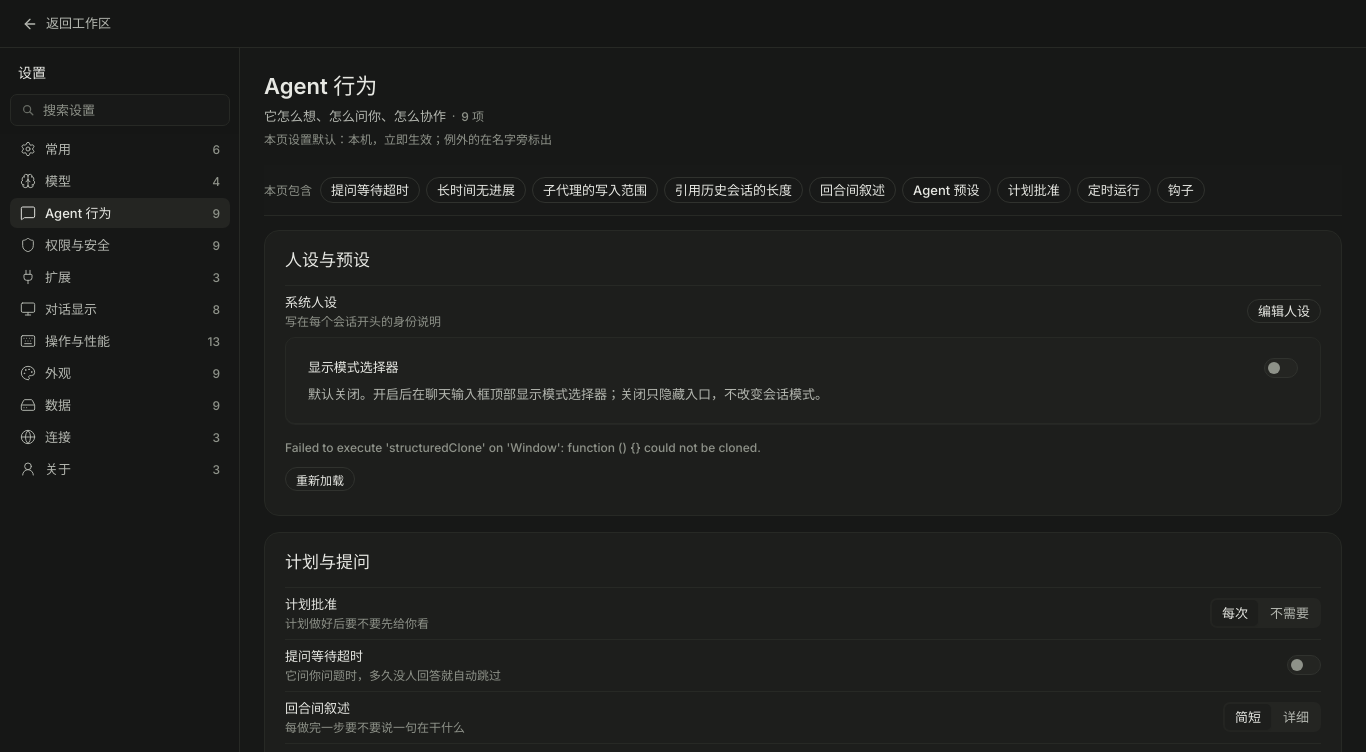
Test: finding a setting › finds collapsed todo progress and opens its immediate machine-local control
Later steps or results of the test are not shown.
Type "todo" into the field labelled "搜索设置" at (120, 110), box [10,94,230,126]
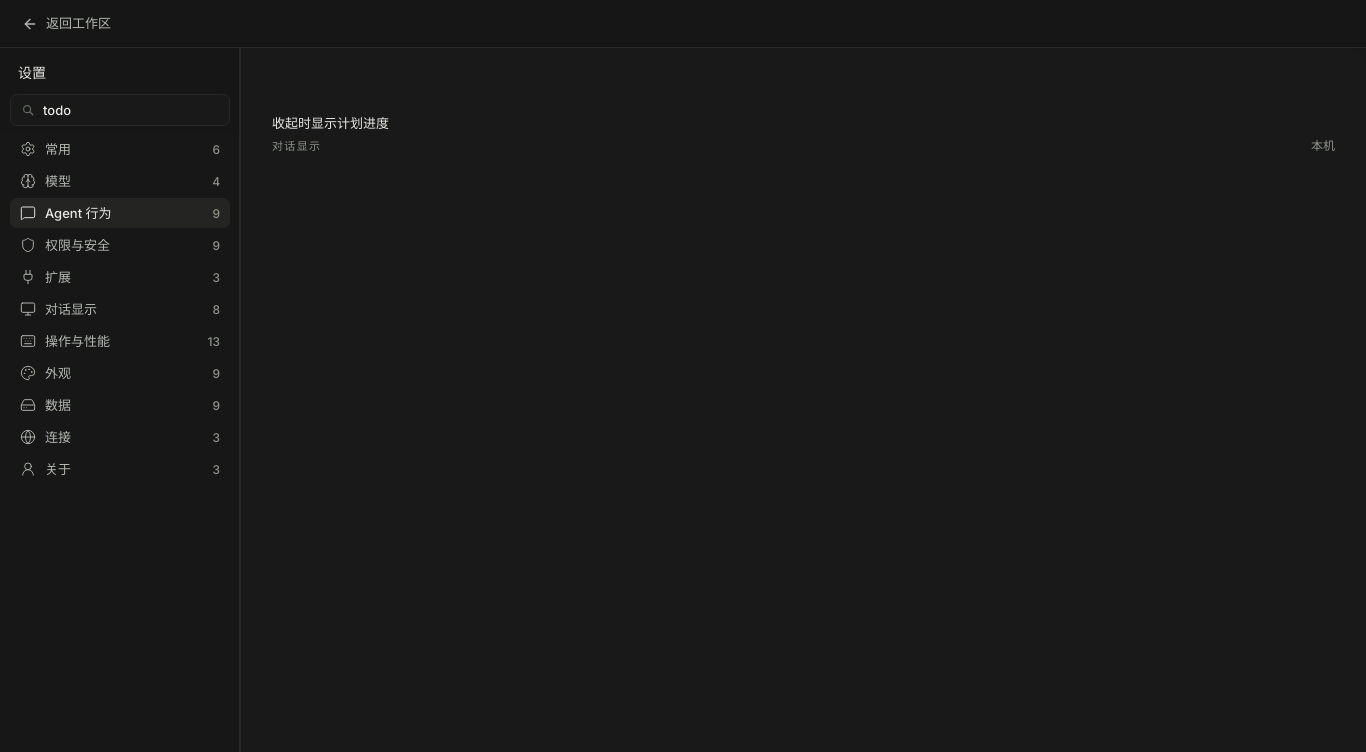
Click the option "对话显示 收起时显示计划进度 本机" at (297, 146), box [263,106,1344,160]
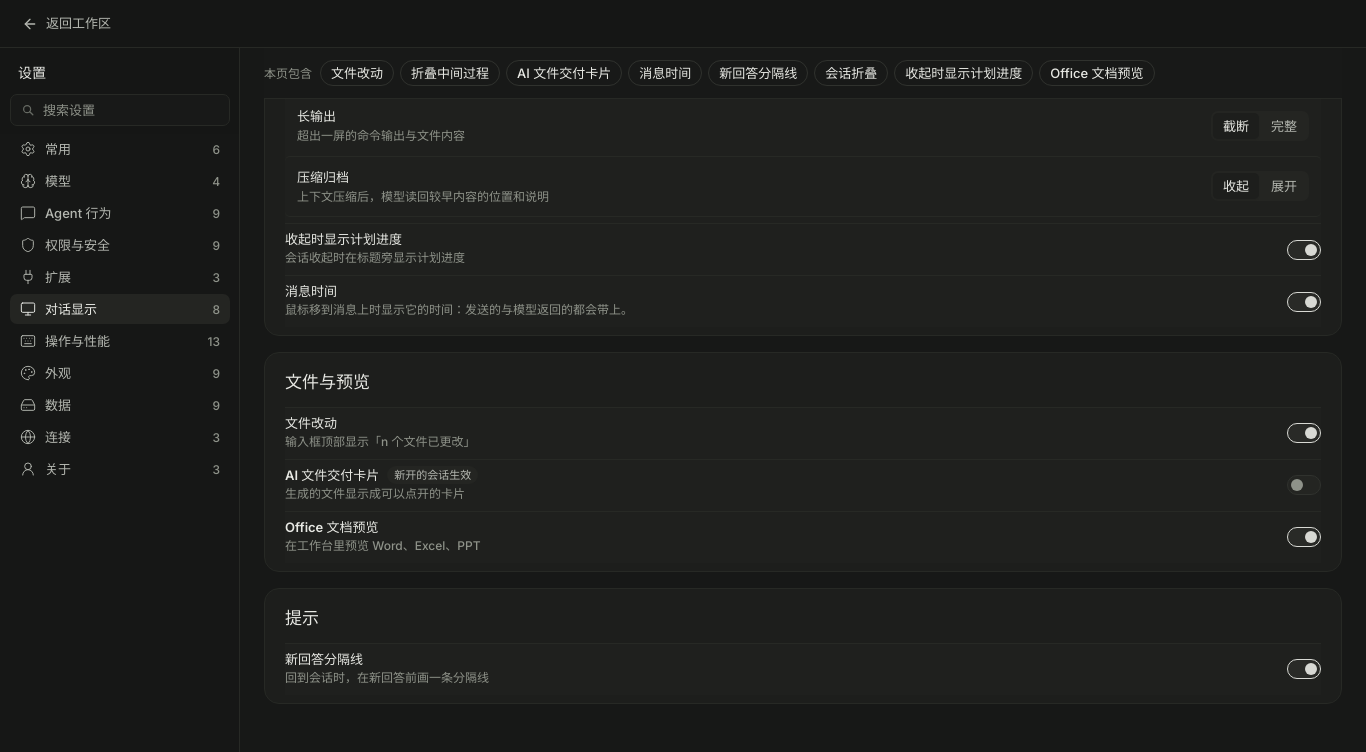
Expected: the switch named "收起时显示计划进度" is checked, [1287,240,1321,260]
